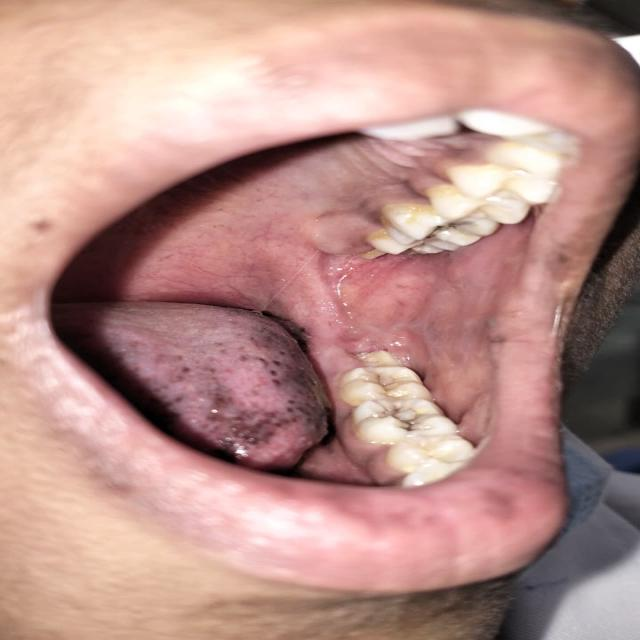leukoplakia-like-detection: (302, 243, 521, 410)
processing_area: (99, 149, 569, 488)
